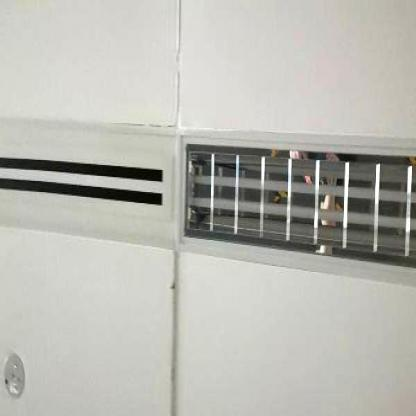light_off: (178, 76, 416, 316)
